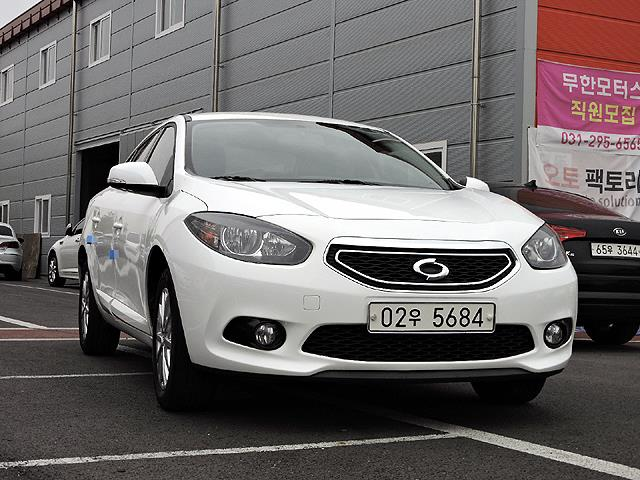plate: (370, 304, 493, 333)
